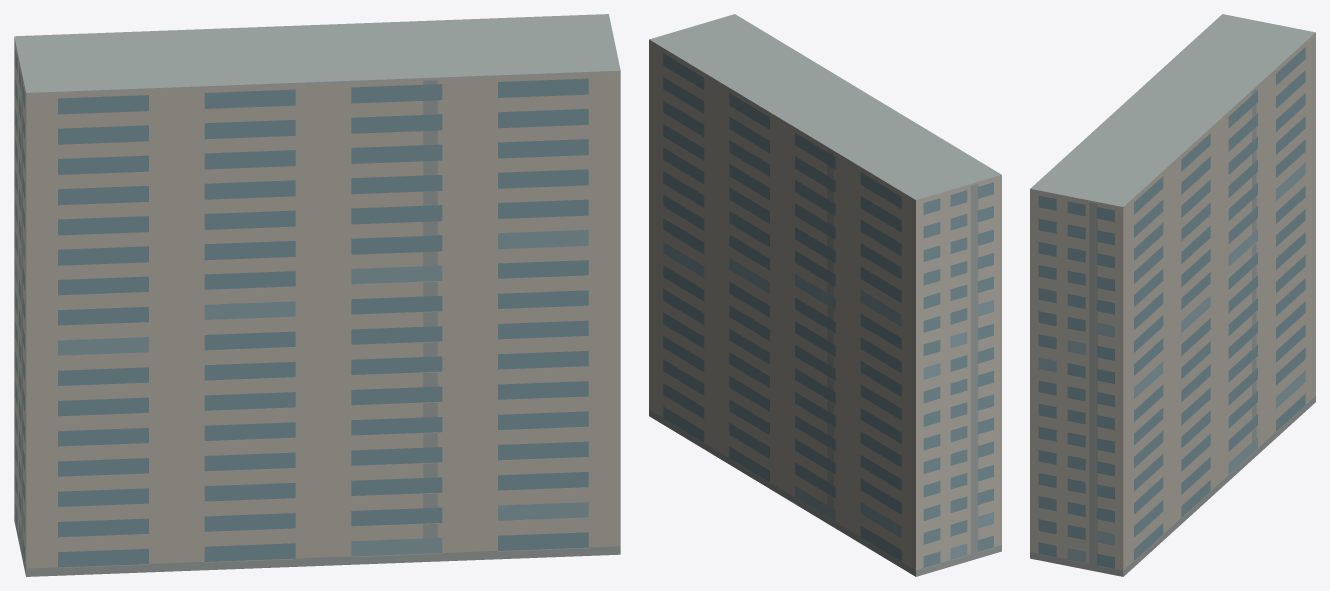
Rendered from residential-6cab9d0b-024e-4189-8f0b-62f0051d8e6f.glb.
The picture shows the model from 3 angles, left to right: view 1: azimuth 30°, elevation 25°; view 2: azimuth 150°, elevation 25°; view 3: azimuth 270°, elevation 25°; orthographic projection. The views are drawn at different scales.
Visible parts, largest first — view 1: residential-6cab9d0b-024e-4189-8f0b-62f0051d8e6f.tmp; view 2: residential-6cab9d0b-024e-4189-8f0b-62f0051d8e6f.tmp; view 3: residential-6cab9d0b-024e-4189-8f0b-62f0051d8e6f.tmp.
Part boxes in pixels (x1,y1,x2,y2): residential-6cab9d0b-024e-4189-8f0b-62f0051d8e6f.tmp: [14, 14, 620, 576]; residential-6cab9d0b-024e-4189-8f0b-62f0051d8e6f.tmp: [649, 14, 1001, 576]; residential-6cab9d0b-024e-4189-8f0b-62f0051d8e6f.tmp: [1030, 14, 1315, 576].
Bounding box in the file's own units: 50.41 × 45 × 31.51.
